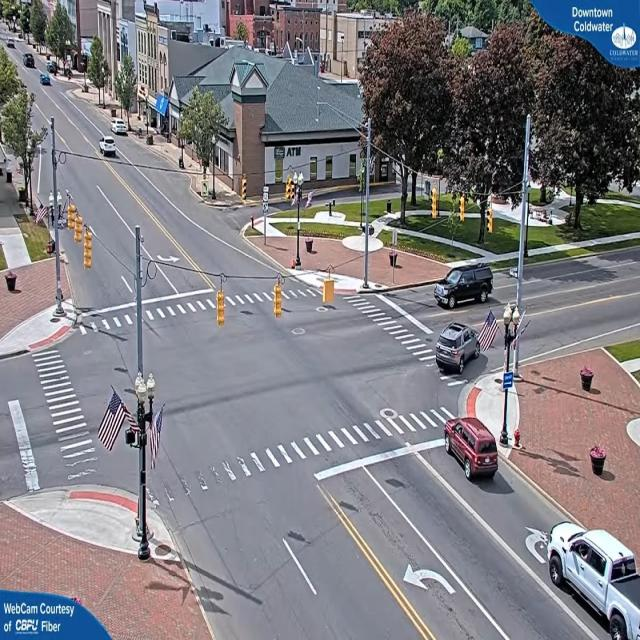car: (546, 526, 640, 640), (445, 419, 498, 483), (435, 264, 493, 309), (436, 324, 483, 376), (98, 136, 118, 156), (112, 120, 129, 137), (41, 72, 54, 86), (24, 54, 36, 68)
